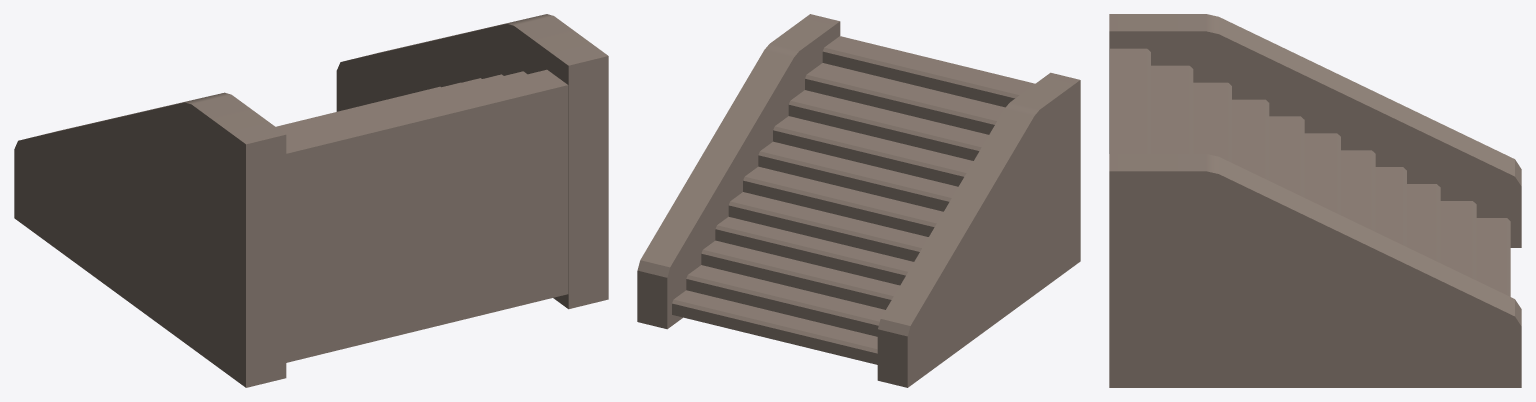
Rendered from stairs_urban.fbx.
The picture shows the model from 3 angles, left to right: view 1: azimuth 30°, elevation 25°; view 2: azimuth 150°, elevation 25°; view 3: azimuth 270°, elevation 25°; orthographic projection. The views are drawn at different scales.
Parts seen in each view (by area): view 1: stairs_urban1; view 2: stairs_urban1; view 3: stairs_urban1.
Part boxes in pixels (<box>): stairs_urban1: <box>14,14,608,387</box>; stairs_urban1: <box>637,14,1080,387</box>; stairs_urban1: <box>1109,14,1521,387</box>.
Bounding box in the file's own units: 5.61 × 3.6 × 6.21.
